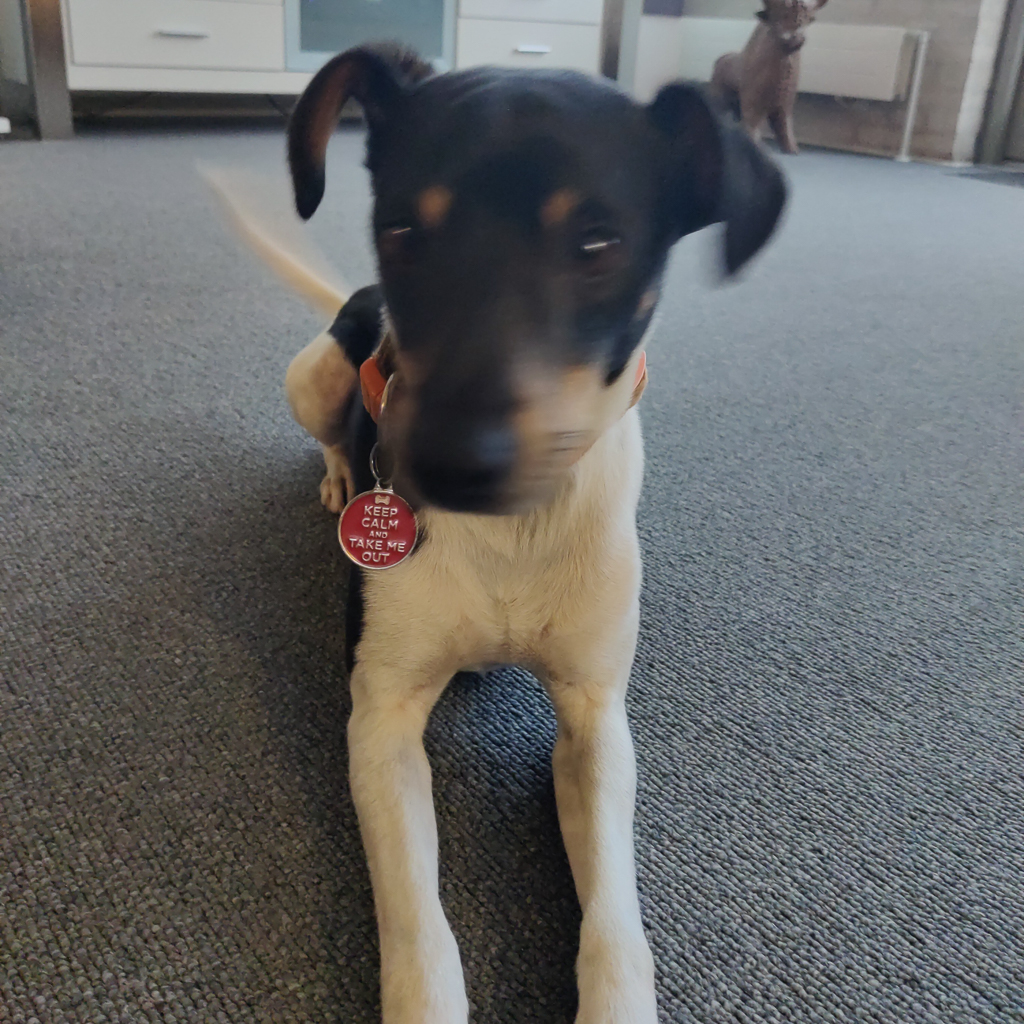Cattle: (684, 0, 847, 196)
Dog: (175, 37, 808, 1024)
